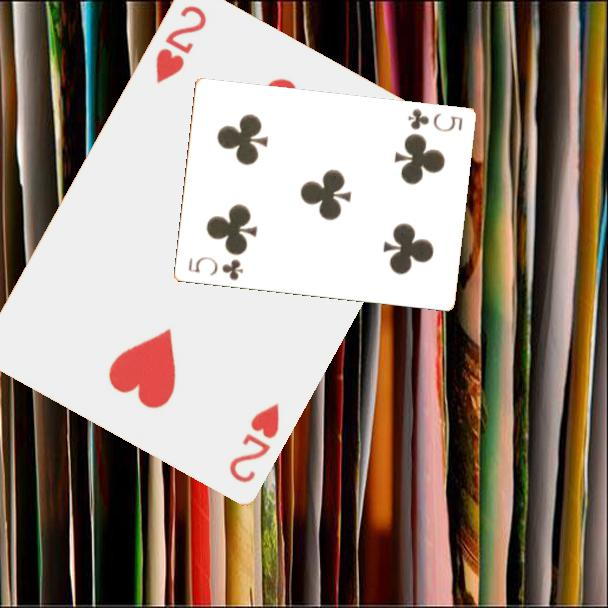c05: (184, 253, 246, 284), (404, 105, 465, 135)
h02: (151, 1, 210, 86), (225, 398, 282, 485)
